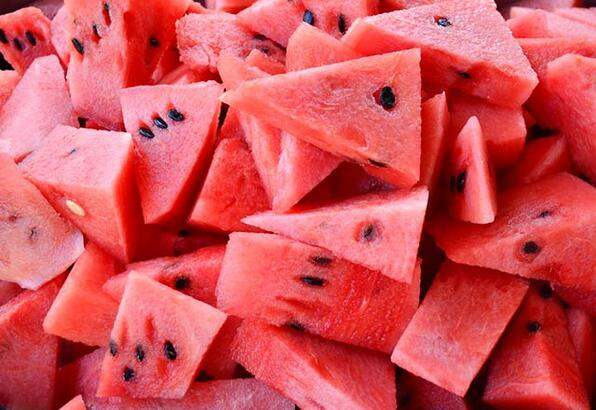Watermelon: (220, 45, 429, 190)
